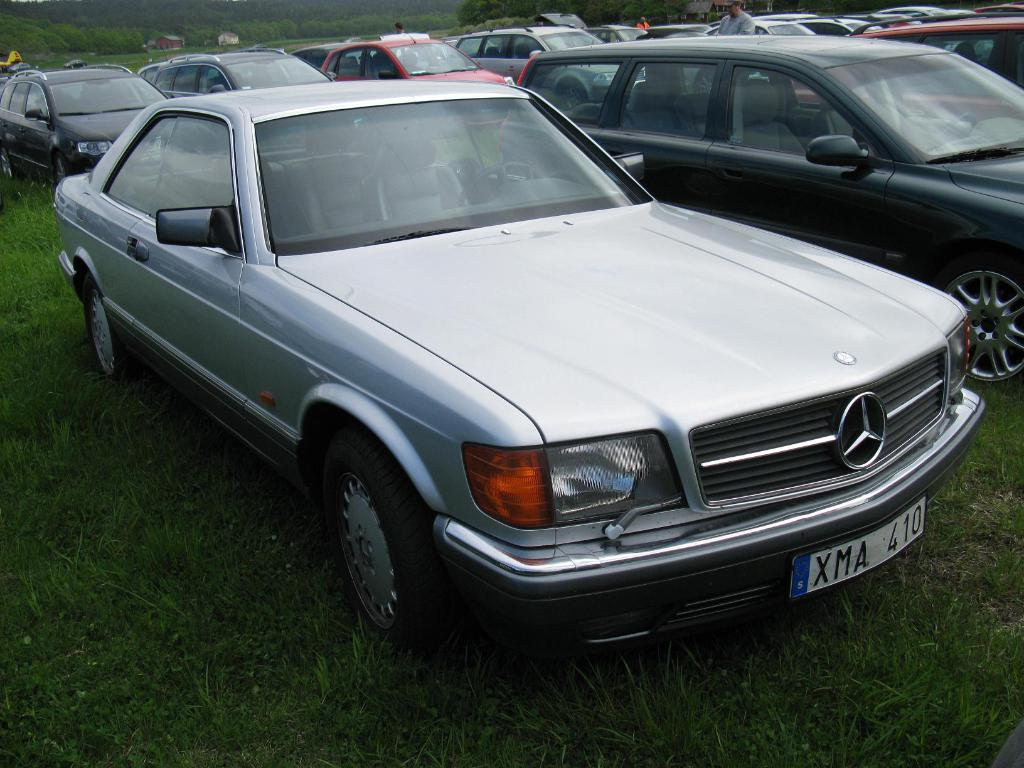Car: (0, 0, 1023, 388)
